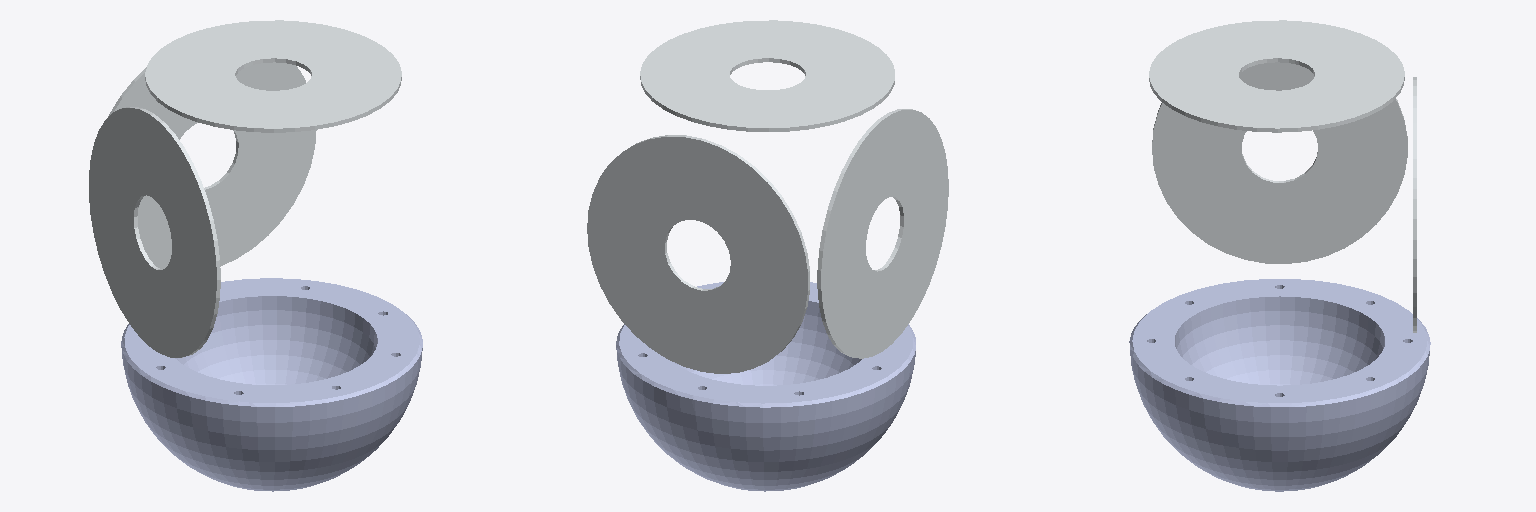
robot.urdf — cubesat_airbearing:
<robot
  name="cubesat_airbearing">
  <link
    name="ball_link">
    <inertial>
      <origin
        xyz="-5.2042E-18 0 0.028231"
        rpy="0 0 0" />
      <mass
        value="0.17121" />
      <inertia
        ixx="0.00013588"
        ixy="-4.4887E-20"
        ixz="2.1502E-20"
        iyy="0.00013588"
        iyz="1.7661E-20"
        izz="0.00021627" />
    </inertial>
    <visual>
      <origin
        xyz="0 0 0"
        rpy="0 0 0" />
      <geometry>
        <mesh
          filename="package://cubesat_airbearing/meshes/ball_link.STL" />
      </geometry>
      <material
        name="">
        <color
          rgba="0.79216 0.81961 0.93333 1" />
      </material>
    </visual>
    <collision>
      <origin
        xyz="0 0 0"
        rpy="0 0 0" />
      <geometry>
        <mesh
          filename="package://cubesat_airbearing/meshes/ball_link.STL" />
      </geometry>
    </collision>
  </link>
  <link
    name="cubesat_link">
    <inertial>
      <origin
        xyz="-0.0032259 0.0028706 0.05018"
        rpy="0 0 0" />
      <mass
        value="0.31003" />
      <inertia
        ixx="0.0005972"
        ixy="-2.84E-06"
        ixz="1.2296E-06"
        iyy="0.00061903"
        iyz="-1.3168E-05"
        izz="0.00054629" />
    </inertial>
    <visual>
      <origin
        xyz="0 0 0"
        rpy="0 0 0" />
      <geometry>
        <mesh
          filename="package://cubesat_airbearing/meshes/cubesat_link.STL" />
      </geometry>
      <material
        name="">
        <color
          rgba="0.89804 0.91765 0.92941 1" />
      </material>
    </visual>
    <collision>
      <origin
        xyz="0 0 0"
        rpy="0 0 0" />
      <geometry>
        <mesh
          filename="package://cubesat_airbearing/meshes/cubesat_link.STL" />
      </geometry>
    </collision>
  </link>
  <joint
    name="cubesat_joint"
    type="fixed">
    <origin
      xyz="0 0 0.05"
      rpy="0 0 -1.837E-16" />
    <parent
      link="ball_link" />
    <child
      link="cubesat_link" />
    <axis
      xyz="0 0 0" />
  </joint>
  <link
    name="x_wheel_link">
    <inertial>
      <origin
        xyz="2.1684E-19 0 0.00075"
        rpy="0 0 0" />
      <mass
        value="0.020913" />
      <inertia
        ixx="1.0298E-05"
        ixy="2.9646E-21"
        ixz="8.2298E-24"
        iyy="1.0298E-05"
        iyz="-4.0619E-24"
        izz="2.0587E-05" />
    </inertial>
    <visual>
      <origin
        xyz="0 0 0"
        rpy="0 0 0" />
      <geometry>
        <mesh
          filename="package://cubesat_airbearing/meshes/x_wheel_link.STL" />
      </geometry>
      <material
        name="">
        <color
          rgba="0.89804 0.91765 0.92941 1" />
      </material>
    </visual>
    <collision>
      <origin
        xyz="0 0 0"
        rpy="0 0 0" />
      <geometry>
        <mesh
          filename="package://cubesat_airbearing/meshes/x_wheel_link.STL" />
      </geometry>
    </collision>
  </link>
  <joint
    name="x_wheel_joint"
    type="continuous">
    <origin
      xyz="0 0.044112 0.05"
      rpy="1.5708 -1.0096 3.1416" />
    <parent
      link="cubesat_link" />
    <child
      link="x_wheel_link" />
    <axis
      xyz="0 0 1" />
    <limit
      effort="0.5"
      velocity="1200" />
  </joint>
  <link
    name="y_wheel_link">
    <inertial>
      <origin
        xyz="2.6021E-18 2.7756E-17 0.00075"
        rpy="0 0 0" />
      <mass
        value="0.020913" />
      <inertia
        ixx="1.0298E-05"
        ixy="-1.3235E-22"
        ixz="-1.4697E-23"
        iyy="1.0298E-05"
        iyz="-6.1395E-25"
        izz="2.0587E-05" />
    </inertial>
    <visual>
      <origin
        xyz="0 0 0"
        rpy="0 0 0" />
      <geometry>
        <mesh
          filename="package://cubesat_airbearing/meshes/y_wheel_link.STL" />
      </geometry>
      <material
        name="">
        <color
          rgba="0.89804 0.91765 0.92941 1" />
      </material>
    </visual>
    <collision>
      <origin
        xyz="0 0 0"
        rpy="0 0 0" />
      <geometry>
        <mesh
          filename="package://cubesat_airbearing/meshes/y_wheel_link.STL" />
      </geometry>
    </collision>
  </link>
  <joint
    name="y_wheel_joint"
    type="continuous">
    <origin
      xyz="-0.044112 0 0.05"
      rpy="1.5708 1.5356 -1.5708" />
    <parent
      link="cubesat_link" />
    <child
      link="y_wheel_link" />
    <axis
      xyz="0 0 1" />
    <limit
      effort="0.5"
      velocity="1200" />
  </joint>
  <link
    name="z_wheel_link">
    <inertial>
      <origin
        xyz="0 -1.3878E-17 -0.00075"
        rpy="0 0 0" />
      <mass
        value="0.020913" />
      <inertia
        ixx="1.0298E-05"
        ixy="4.2352E-22"
        ixz="8.2746E-24"
        iyy="1.0298E-05"
        iyz="1.2707E-23"
        izz="2.0587E-05" />
    </inertial>
    <visual>
      <origin
        xyz="0 0 0"
        rpy="0 0 0" />
      <geometry>
        <mesh
          filename="package://cubesat_airbearing/meshes/z_wheel_link.STL" />
      </geometry>
      <material
        name="">
        <color
          rgba="0.89804 0.91765 0.92941 1" />
      </material>
    </visual>
    <collision>
      <origin
        xyz="0 0 0"
        rpy="0 0 0" />
      <geometry>
        <mesh
          filename="package://cubesat_airbearing/meshes/z_wheel_link.STL" />
      </geometry>
    </collision>
  </link>
  <joint
    name="z_wheel_joint"
    type="continuous">
    <origin
      xyz="0 -0.0010003 0.097612"
      rpy="-9.0695E-09 1.7536E-08 2.6643" />
    <parent
      link="cubesat_link" />
    <child
      link="z_wheel_link" />
    <axis
      xyz="0 0 1" />
    <limit
      effort="0.5"
      velocity="1200" />
  </joint>
  <!-- SDF properties -->
  <!-- Colors -->
  <gazebo reference="ball_link">
    <material>Gazebo/DarkGray</material>
  </gazebo>
  <gazebo reference="x_wheel_link">
    <material>Gazebo/BlackTransparent</material>
  </gazebo>
  <gazebo reference="y_wheel_link">
    <material>Gazebo/BlackTransparent</material>
  </gazebo>
  <gazebo reference="z_wheel_link">
    <material>Gazebo/BlackTransparent</material>
  </gazebo>
  <!-- Dynamics -->
  <gazebo reference="x_wheel_joint">
    <provideFeedback>true</provideFeedback>
  </gazebo>
  <gazebo reference="y_wheel_joint">
    <provideFeedback>true</provideFeedback>
  </gazebo>
  <gazebo reference="z_wheel_joint">
    <provideFeedback>true</provideFeedback>
  </gazebo>
  <!-- Sensors -->
  <gazebo reference="ball_link">
    <gravity>true</gravity>
    <sensor name="imu_sensor" type="imu">
      <always_on>true</always_on>
      <update_rate>100</update_rate>
      <visualize>true</visualize>
      <topic>__default_topic__</topic>
      <plugin name="imu_plugin" filename="libgazebo_ros_imu_sensor.so">
        <robotNamespace>/cubesat</robotNamespace>
        <topicName>imu_data</topicName>
        <bodyName>ball_link</bodyName>
        <updateRateHZ>10.0</updateRateHZ>
        <gaussianNoise>0.0</gaussianNoise>
        <xyzOffset>0 0 0</xyzOffset>
        <rpyOffset>0 0 0</rpyOffset>
        <frameName>ball_link</frameName>
      </plugin>
      <pose>0 0 0 0 0 0</pose>
    </sensor>
  </gazebo>
  <!-- Control -->
  <gazebo>
  <plugin name="gazebo_ros_control" filename="libgazebo_ros_control.so">
    <robotNamespace>/cubesat</robotNamespace>
  </plugin>
</gazebo>
<transmission name="tran1">
  <type>transmission_interface/SimpleTransmission</type>
  <joint name="x_wheel_joint">
    <hardwareInterface>EffortJointInterface</hardwareInterface>
  </joint>
  <actuator name="motor1">
    <hardwareInterface>EffortJointInterface</hardwareInterface>
    <mechanicalReduction>1</mechanicalReduction>
  </actuator>
</transmission>

<transmission name="tran2">
  <type>transmission_interface/SimpleTransmission</type>
  <joint name="y_wheel_joint">
    <hardwareInterface>EffortJointInterface</hardwareInterface>
  </joint>
  <actuator name="motor2">
    <hardwareInterface>EffortJointInterface</hardwareInterface>
    <mechanicalReduction>1</mechanicalReduction>
  </actuator>
</transmission>

<transmission name="tran3">
  <type>transmission_interface/SimpleTransmission</type>
  <joint name="z_wheel_joint">
    <hardwareInterface>EffortJointInterface</hardwareInterface>
  </joint>
  <actuator name="motor3">
    <hardwareInterface>EffortJointInterface</hardwareInterface>
    <mechanicalReduction>1</mechanicalReduction>
  </actuator>
</transmission>
</robot>

--- Render facts (derived) ---
3 views of the same robot in one strip: view 1: azimuth 30°, elevation 25°; view 2: azimuth 150°, elevation 25°; view 3: azimuth 270°, elevation 25° (orthographic).
Model cubesat_airbearing with 5 links and 4 joints (3 continuous, 1 fixed), rooted at ball_link, posed all joints at 0.
Visible links, largest first — view 1: ball_link, y_wheel_link, z_wheel_link, x_wheel_link; view 2: x_wheel_link, ball_link, y_wheel_link, z_wheel_link; view 3: ball_link, y_wheel_link, z_wheel_link, x_wheel_link.
Boxes of the visible links, left/top/right/bottom form: ball_link: left=121, top=278, right=422, bottom=491; y_wheel_link: left=89, top=107, right=220, bottom=357; z_wheel_link: left=145, top=20, right=401, bottom=132; x_wheel_link: left=108, top=62, right=316, bottom=268; x_wheel_link: left=587, top=135, right=809, bottom=373; ball_link: left=616, top=282, right=915, bottom=491; y_wheel_link: left=817, top=109, right=948, bottom=358; z_wheel_link: left=640, top=20, right=894, bottom=131; ball_link: left=1129, top=279, right=1430, bottom=491; y_wheel_link: left=1152, top=62, right=1407, bottom=263; z_wheel_link: left=1149, top=20, right=1404, bottom=132; x_wheel_link: left=1413, top=77, right=1416, bottom=332.
Bounding box of the posed robot: 0.0999 × 0.1 × 0.1476 m (x, y, z).
4 mesh visuals loaded from 5 distinct referenced files (4 binary STL); not drawn: 1 (reference not matched to a file when rendering).